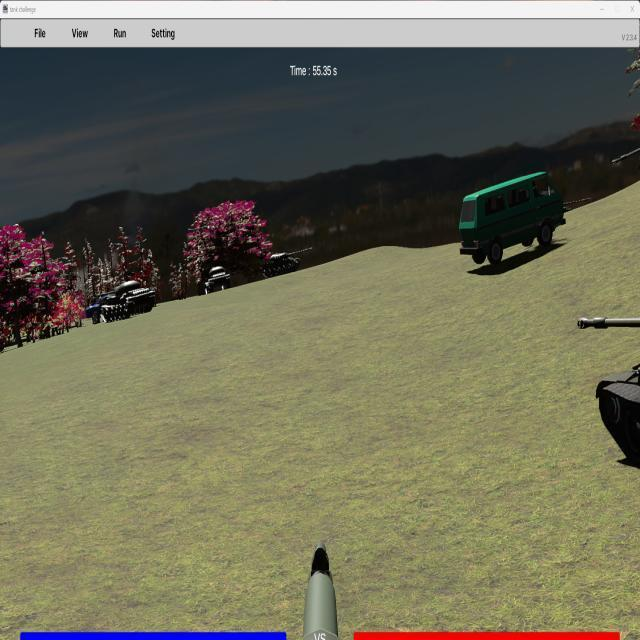Tank: (575, 291, 640, 485), (98, 280, 156, 321), (261, 247, 313, 278), (609, 122, 640, 174)
car: (459, 171, 565, 266)
